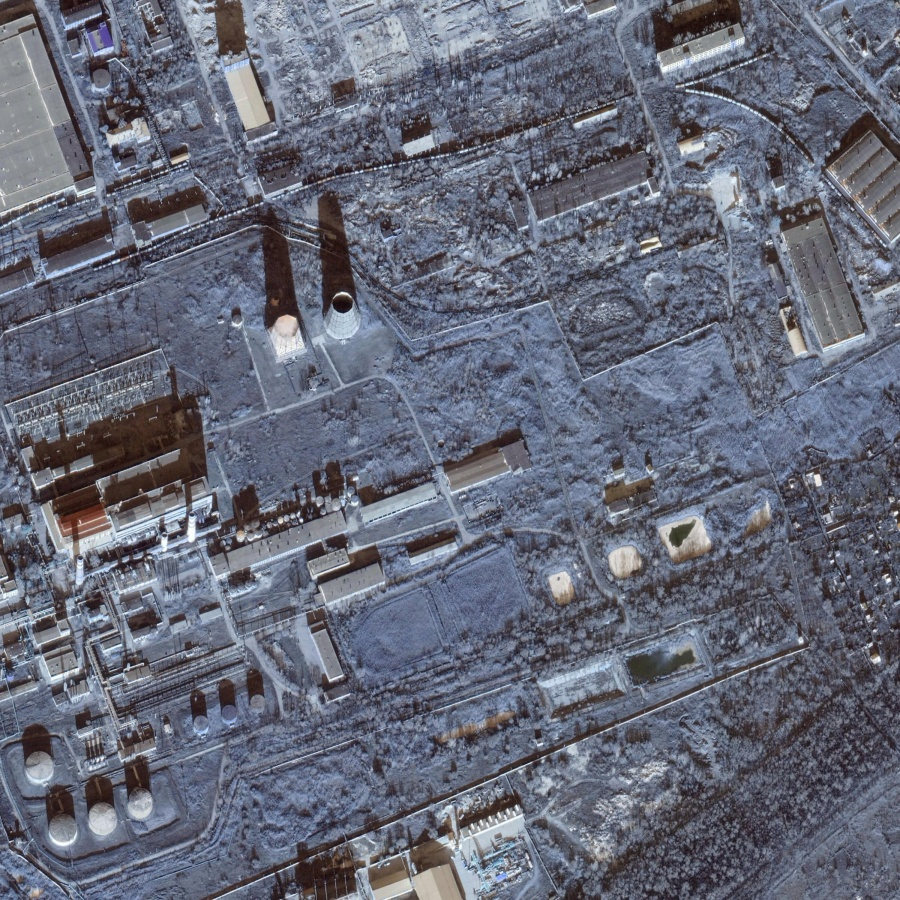PowerPlant: (4, 263, 404, 851)
